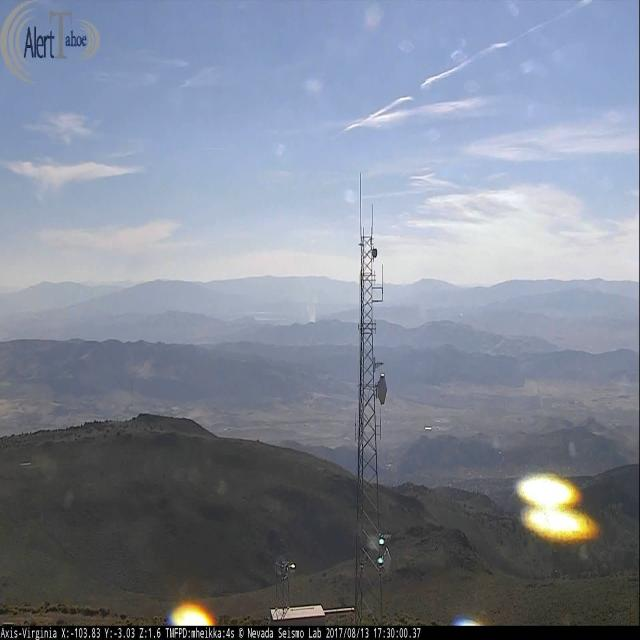smoke: (304, 304, 317, 322)
